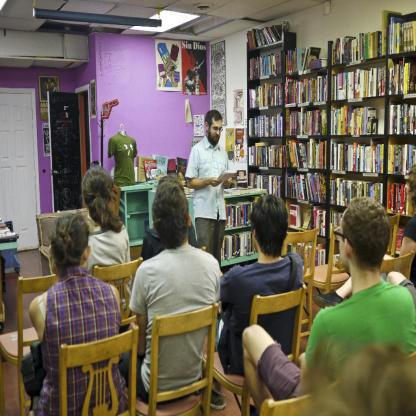book: (332, 7, 416, 66), (332, 58, 416, 99), (329, 140, 384, 174), (329, 177, 384, 203), (283, 138, 326, 171), (284, 44, 328, 76), (281, 75, 327, 105), (283, 104, 327, 134), (330, 107, 374, 136), (284, 240, 327, 269), (138, 152, 186, 177), (284, 176, 326, 204), (247, 18, 289, 44), (386, 140, 416, 176), (249, 50, 285, 79), (221, 230, 255, 260), (387, 181, 416, 216), (389, 99, 416, 135), (225, 197, 256, 228), (250, 173, 284, 201), (249, 140, 282, 168), (250, 113, 284, 138), (248, 84, 280, 109), (302, 204, 326, 236), (330, 213, 348, 238), (391, 224, 405, 256), (289, 202, 301, 226)
